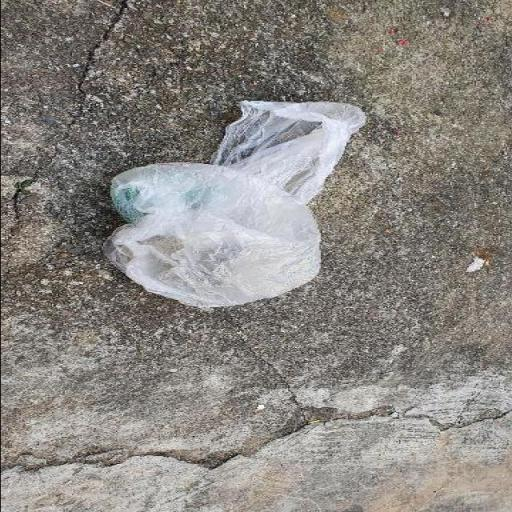plastic-bag: (94, 102, 366, 309)
